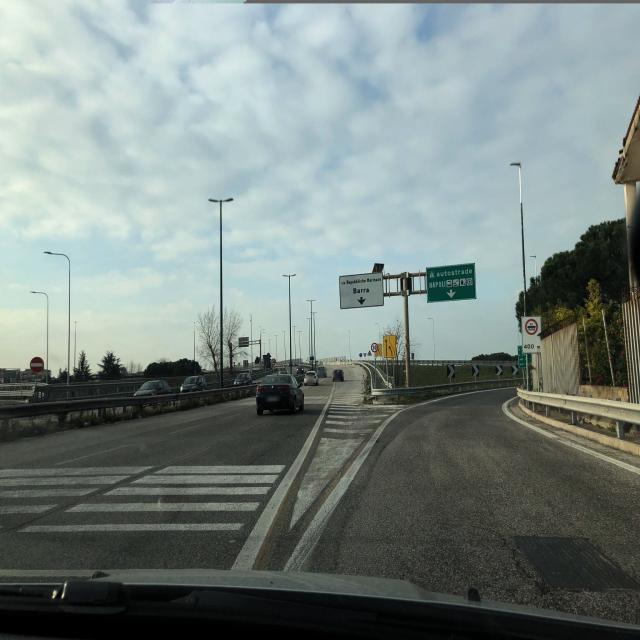car: (255, 373, 305, 415), (133, 379, 173, 396), (180, 375, 209, 392), (233, 371, 253, 387), (303, 370, 319, 387), (332, 368, 345, 382), (315, 365, 327, 378)
